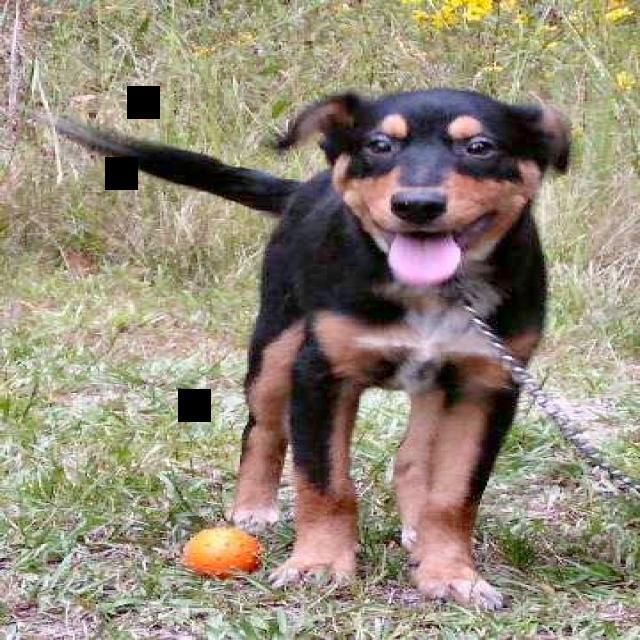puppy-dog: (43, 85, 576, 612)
